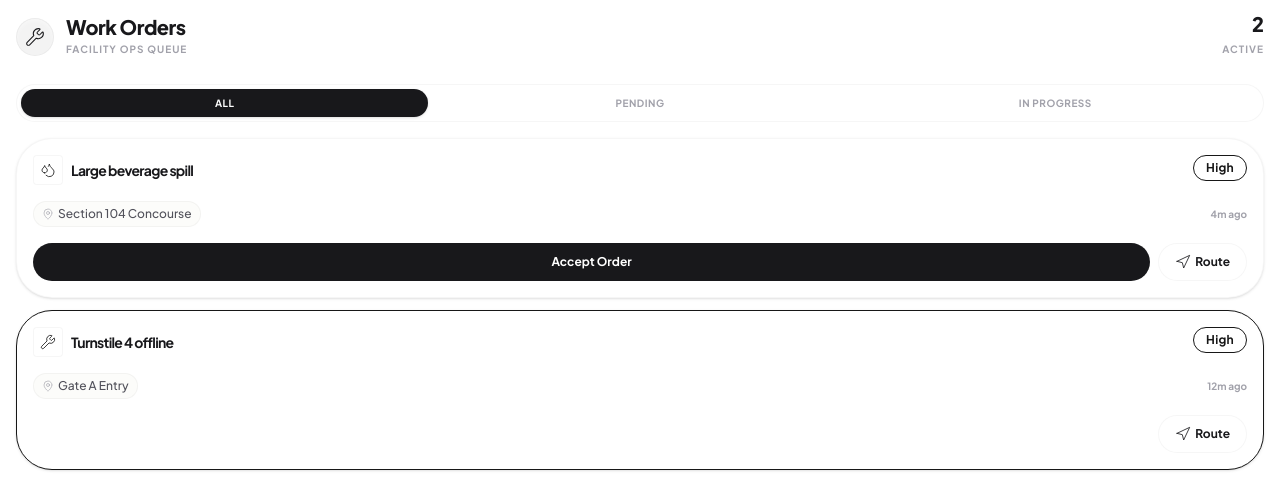
Test case: StaffTasks › filters to in-progress tasks only
Click the button "In Progress": click(1055, 103) 852,89 -> 1259,117
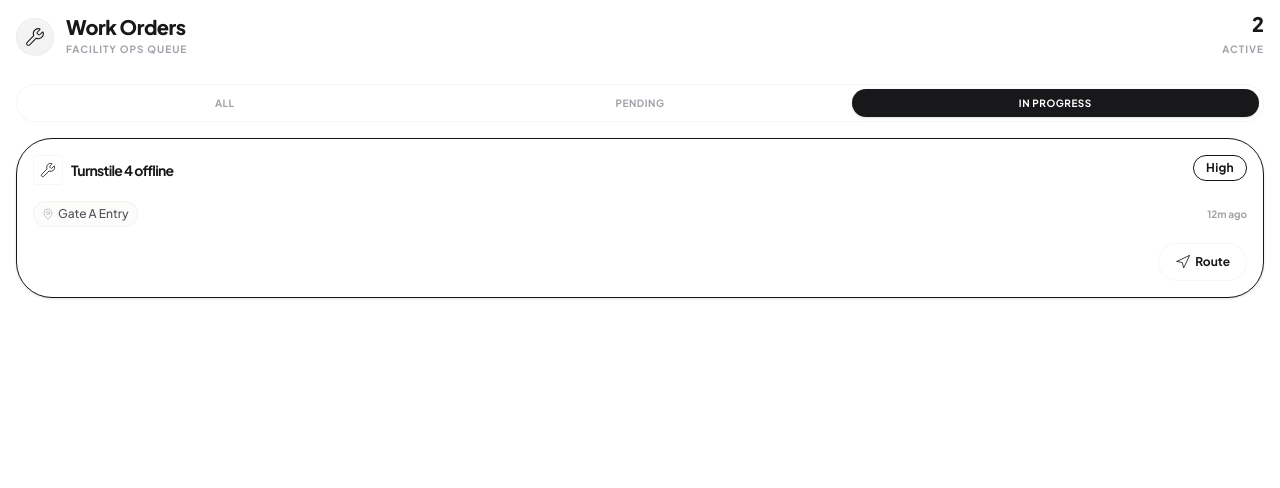
Check: the heading "Turnstile 4 offline" is shown, box 71,160 -> 173,180
Check: the heading "Large beverage spill" is gone
